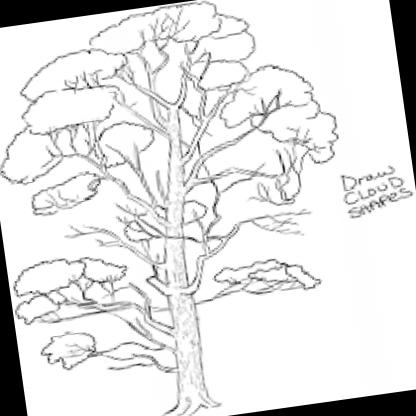branch_sharp: (36, 11, 274, 326)
crown_dizzy: (0, 0, 366, 374)
trunk_bark: (168, 317, 210, 386)
